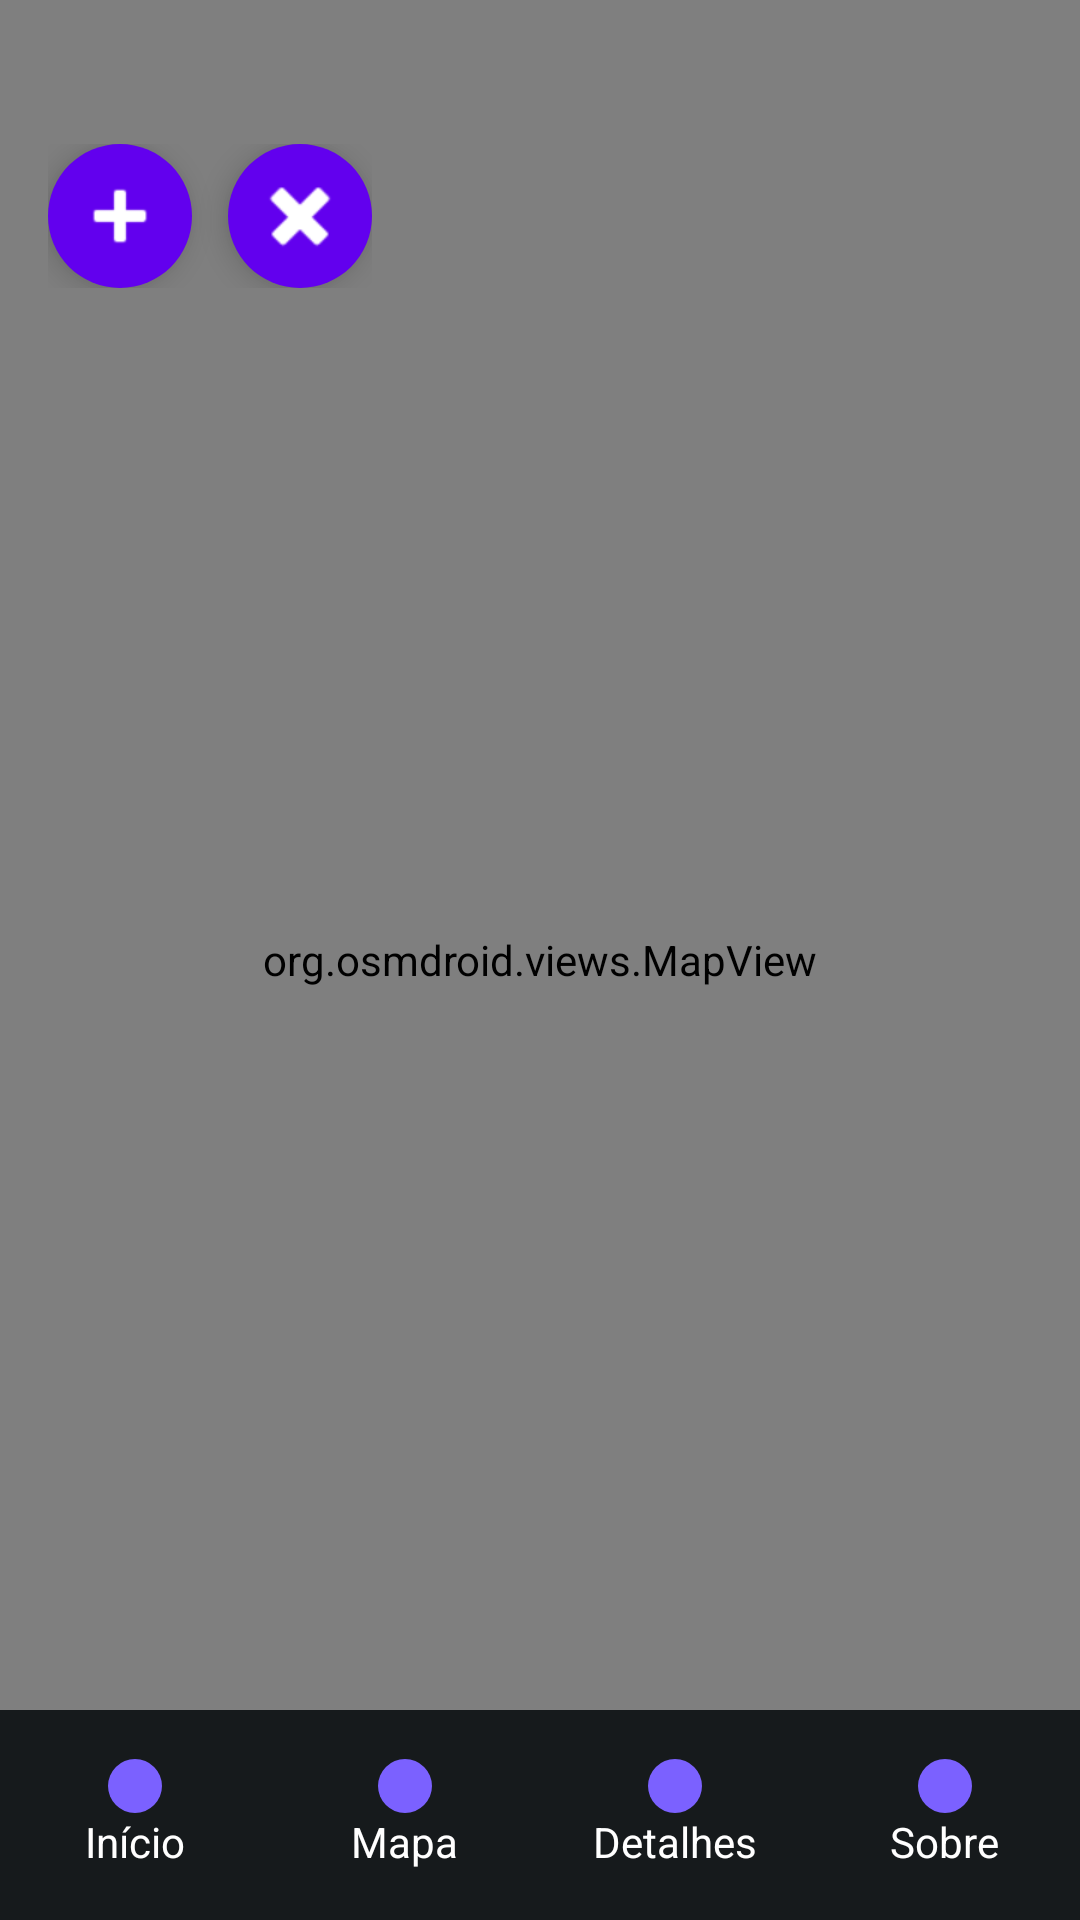

Screen size 1080 × 1920. Icon name, then its center in pixels as (x=x, y=y):
add: (x=120, y=216)
delete: (x=300, y=216)
